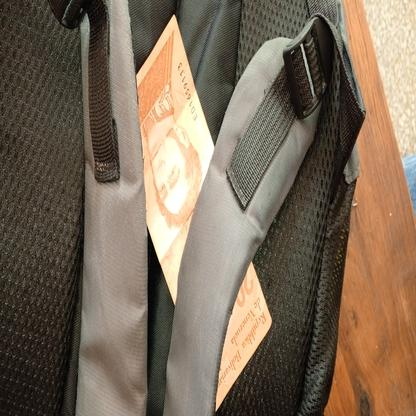twenty-front-vef: (134, 13, 272, 412)
